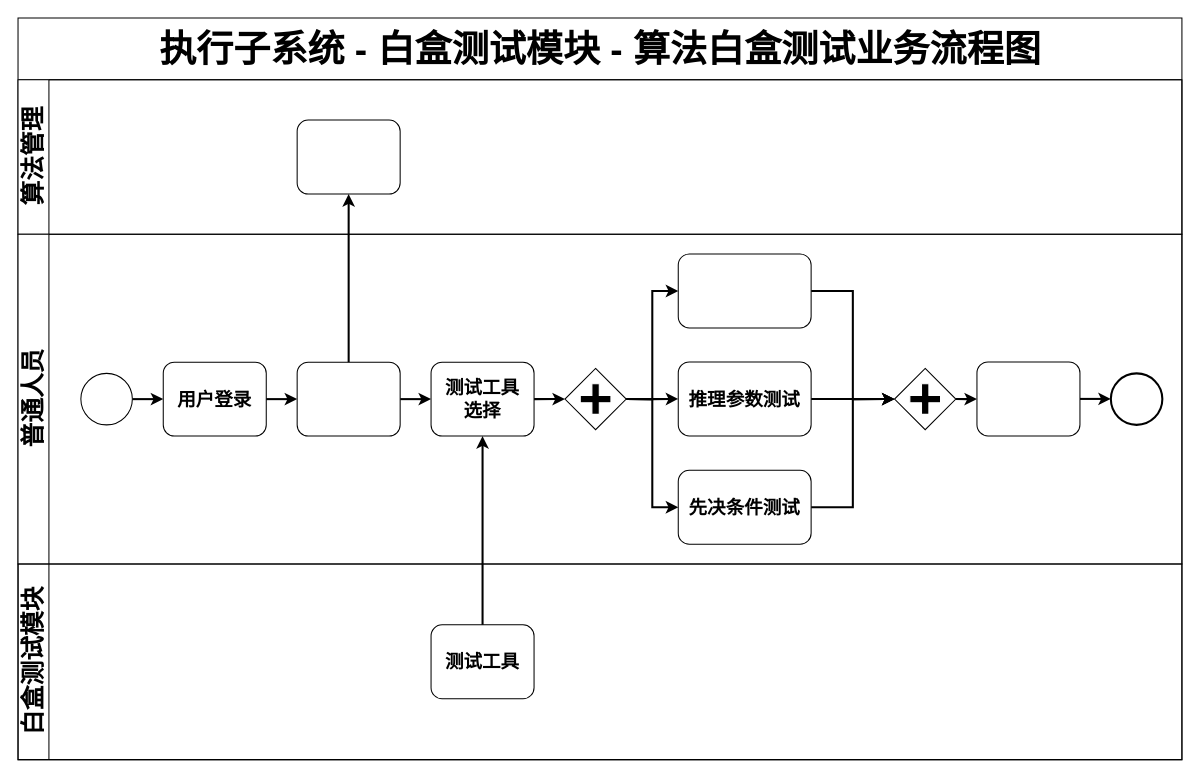
This 1200x778 diagram has some shape labels left out. Here are the shapes that lost their labels. From the top down, the centre of each, then its label:
the point at 348,156: 待测试算法
the point at 744,290: 训练参数测试
the point at 348,398: 算法选择
the point at 1028,398: 测试结果 查看
